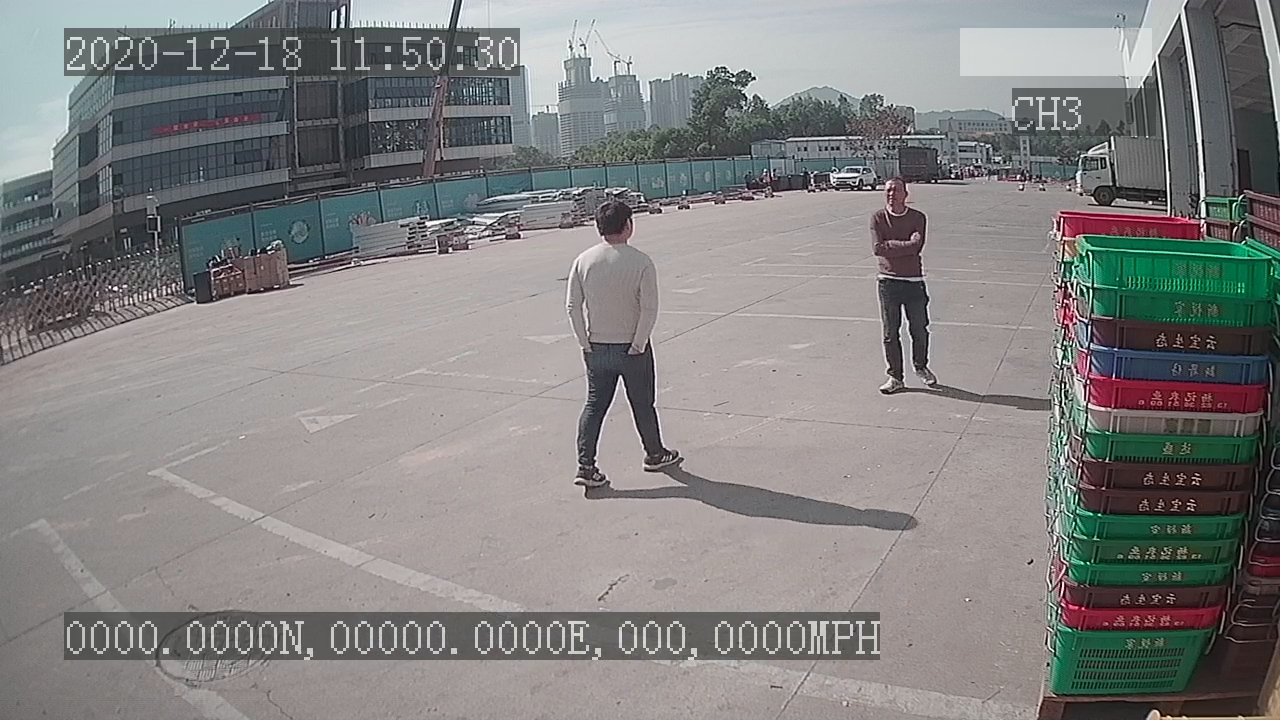person: (563, 197, 684, 490), (865, 174, 942, 399)
